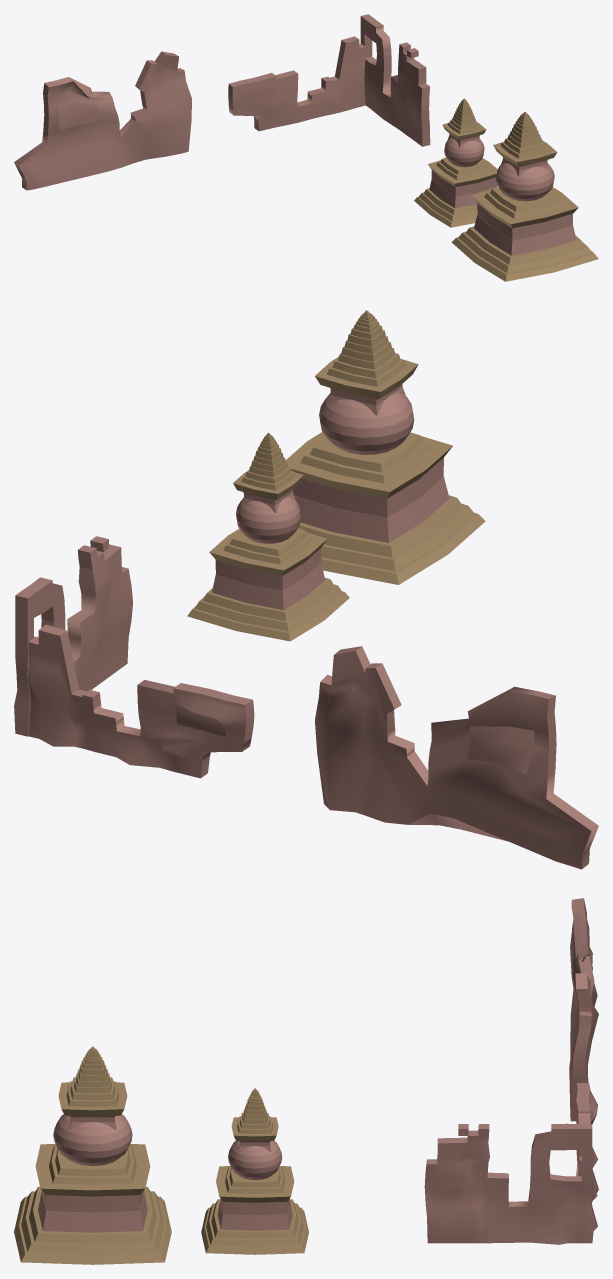
The model's file is ruins.fbx.
The picture shows the model from 3 angles, top to bottom: view 1: azimuth 30°, elevation 25°; view 2: azimuth 150°, elevation 25°; view 3: azimuth 270°, elevation 25°; orthographic projection. The views are drawn at different scales.
Parts seen in each view (by area): view 1: pCube20, polySurface51, polySurface55, polySurface56, polySurface53; view 2: pCube20, polySurface51, polySurface55, polySurface53, polySurface56; view 3: polySurface51, polySurface56, polySurface53, pCube20, polySurface55.
Part boxes in pixels (left/top/right/bottom): pCube20: left=14, top=51, right=191, bottom=190; polySurface51: left=451, top=111, right=598, bottom=281; polySurface55: left=228, top=36, right=365, bottom=131; polySurface56: left=360, top=14, right=430, bottom=146; polySurface53: left=414, top=98, right=497, bottom=227; pCube20: left=315, top=646, right=598, bottom=869; polySurface51: left=285, top=310, right=485, bottom=584; polySurface55: left=28, top=624, right=254, bottom=778; polySurface53: left=187, top=432, right=349, bottom=641; polySurface56: left=14, top=536, right=132, bottom=736; polySurface51: left=14, top=1046, right=171, bottom=1264; polySurface56: left=424, top=1123, right=594, bottom=1244; polySurface53: left=201, top=1088, right=308, bottom=1254; pCube20: left=569, top=898, right=598, bottom=1121; polySurface55: left=575, top=1082, right=598, bottom=1230.
Size of the model in its own units: 11.95 by 4.22 by 12.08.
